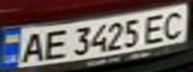2: (106, 18, 127, 52)
3: (69, 24, 93, 56)
4: (90, 20, 112, 54)
5: (121, 16, 148, 48)
A: (15, 29, 48, 64)
C: (157, 7, 193, 40)
E: (139, 11, 175, 44), (36, 27, 69, 61)
